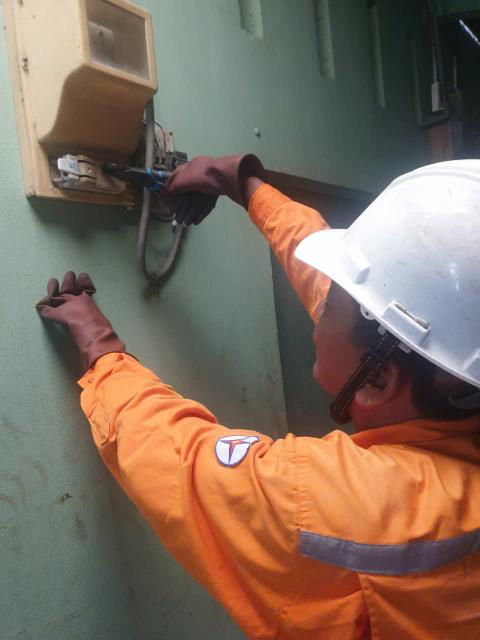gloves: (131, 138, 281, 239), (34, 262, 138, 371)
helmet: (256, 130, 480, 423)
